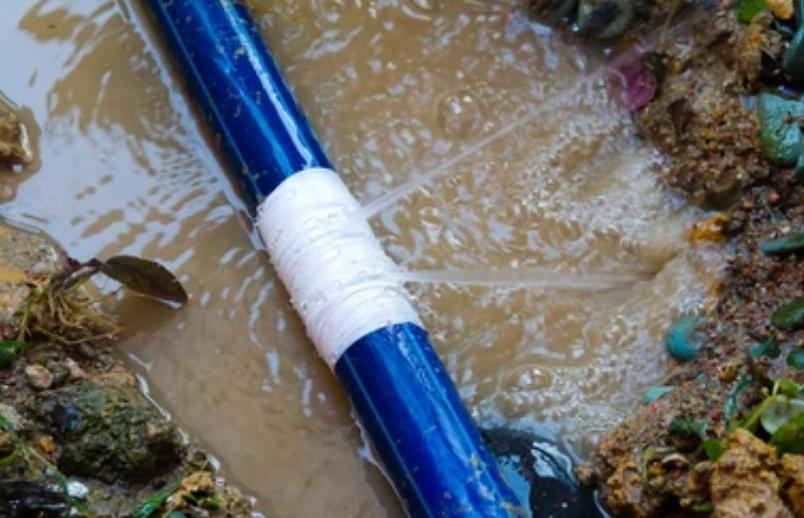pipe burst: (342, 39, 645, 235), (375, 262, 641, 295)
water accumulation: (0, 0, 734, 518)
